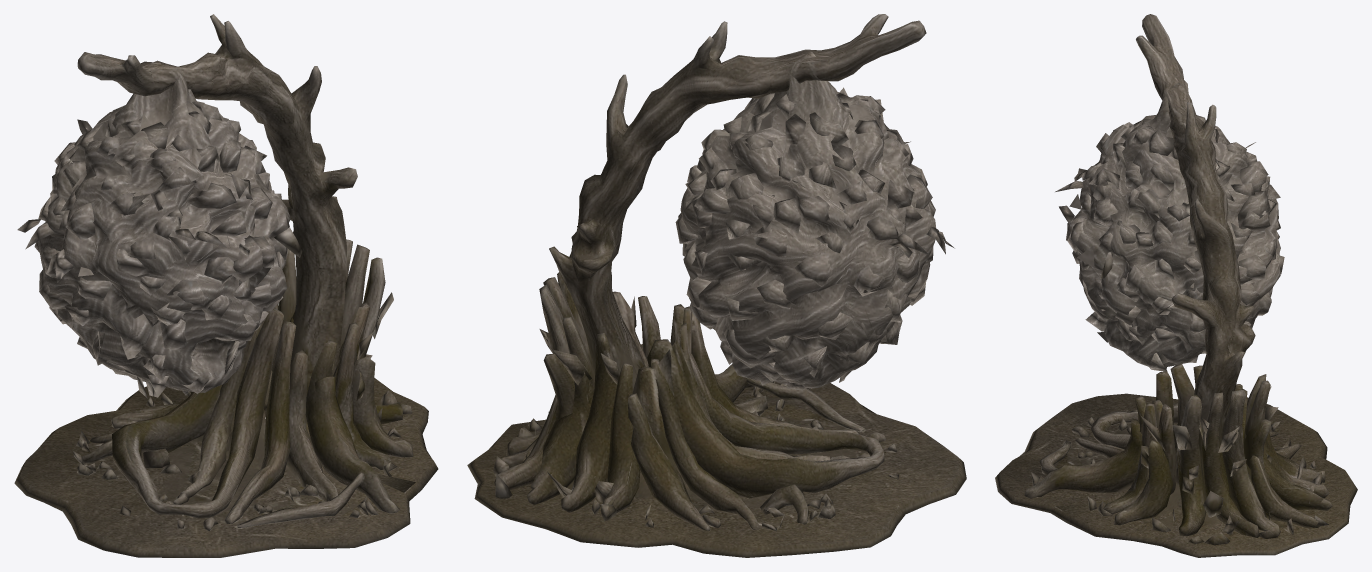
File: hornet_nest.glb
The picture shows the model from 3 angles, left to right: view 1: azimuth 30°, elevation 25°; view 2: azimuth 150°, elevation 25°; view 3: azimuth 270°, elevation 25°; orthographic projection. The views are drawn at different scales.
Bounding box in the file's own units: 0.915 × 1 × 0.8408.
1 material, 1 textured.
